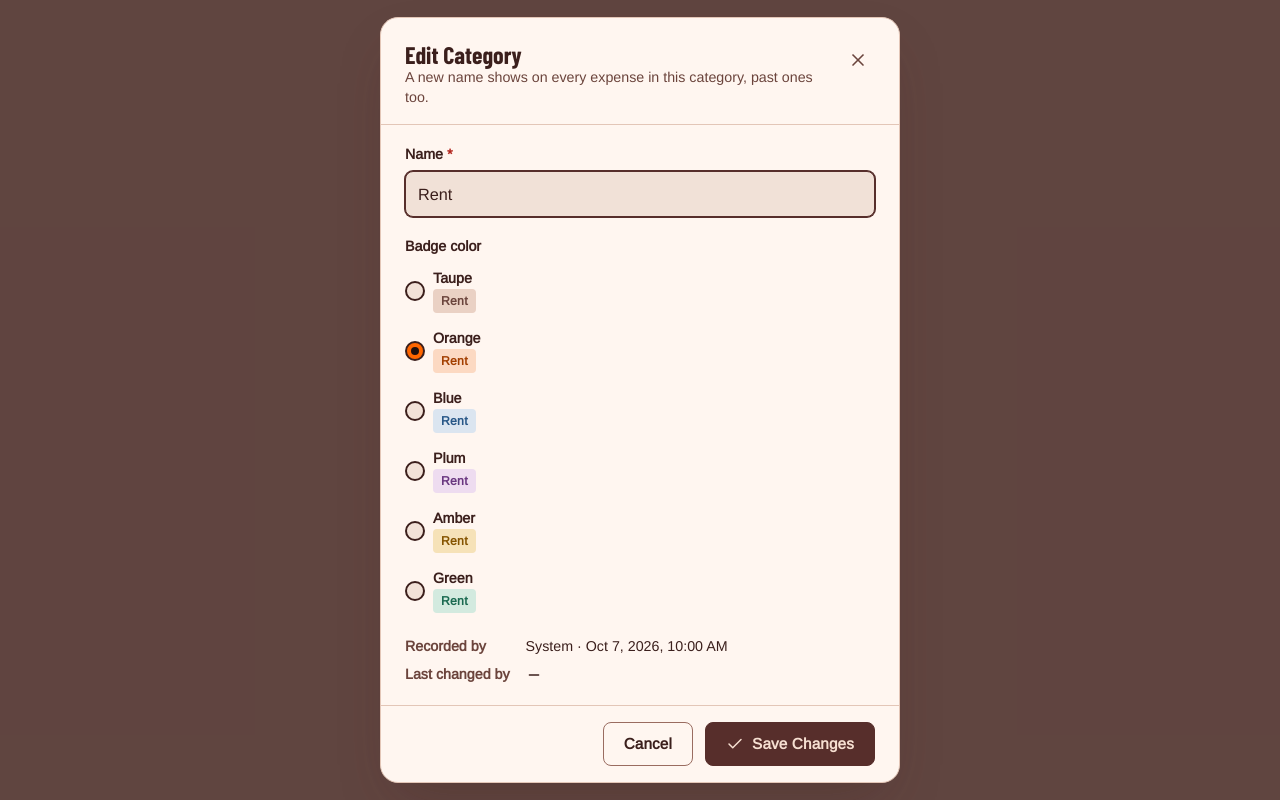
Test: S2 edit mode › a stale save (SEC-07, 05 D-20) › keeps every typed value on a 409, shows the banner and puts focus on Load Latest
Replace the text in the field labelled "Name *" with "Rent and bills" at {"x": 640, "y": 194}, box [406,172,874,216]
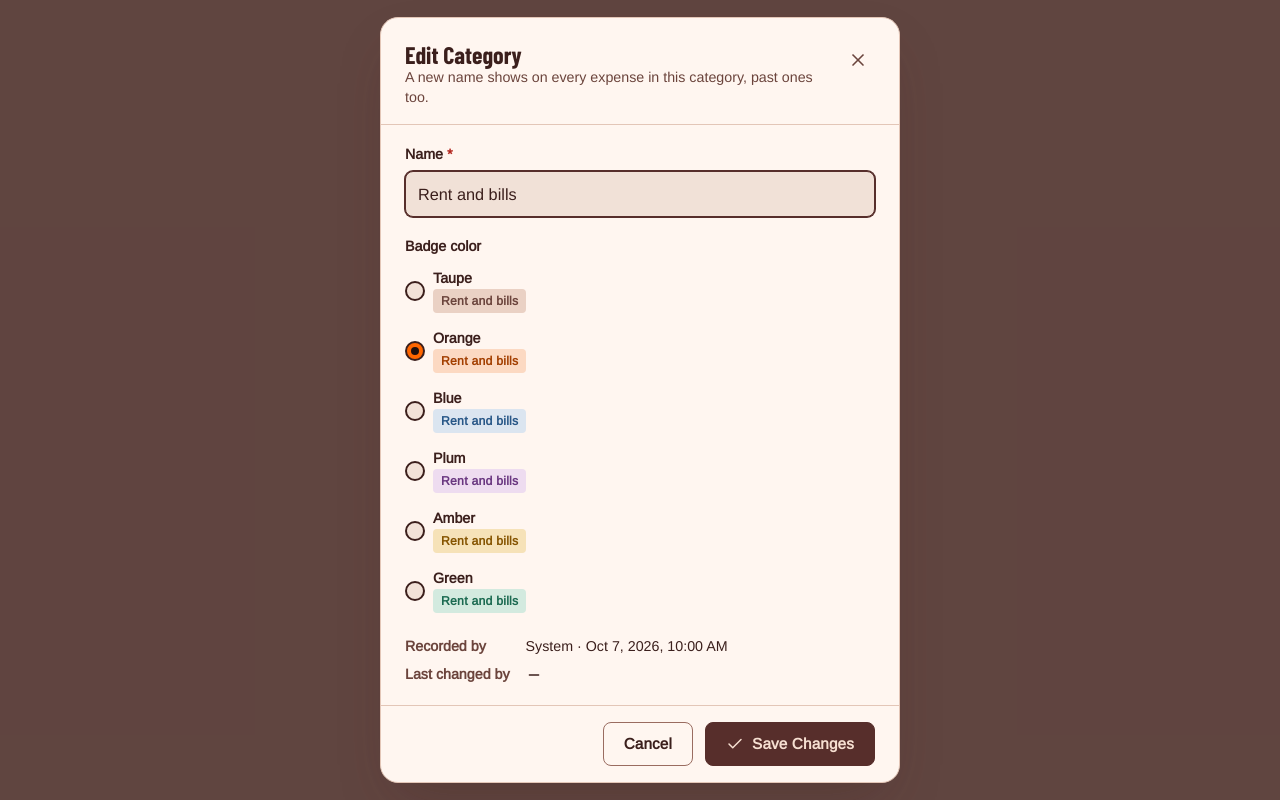
Click the radio button labelled "Plum".
click(415, 471)  # box [405,461,425,481]
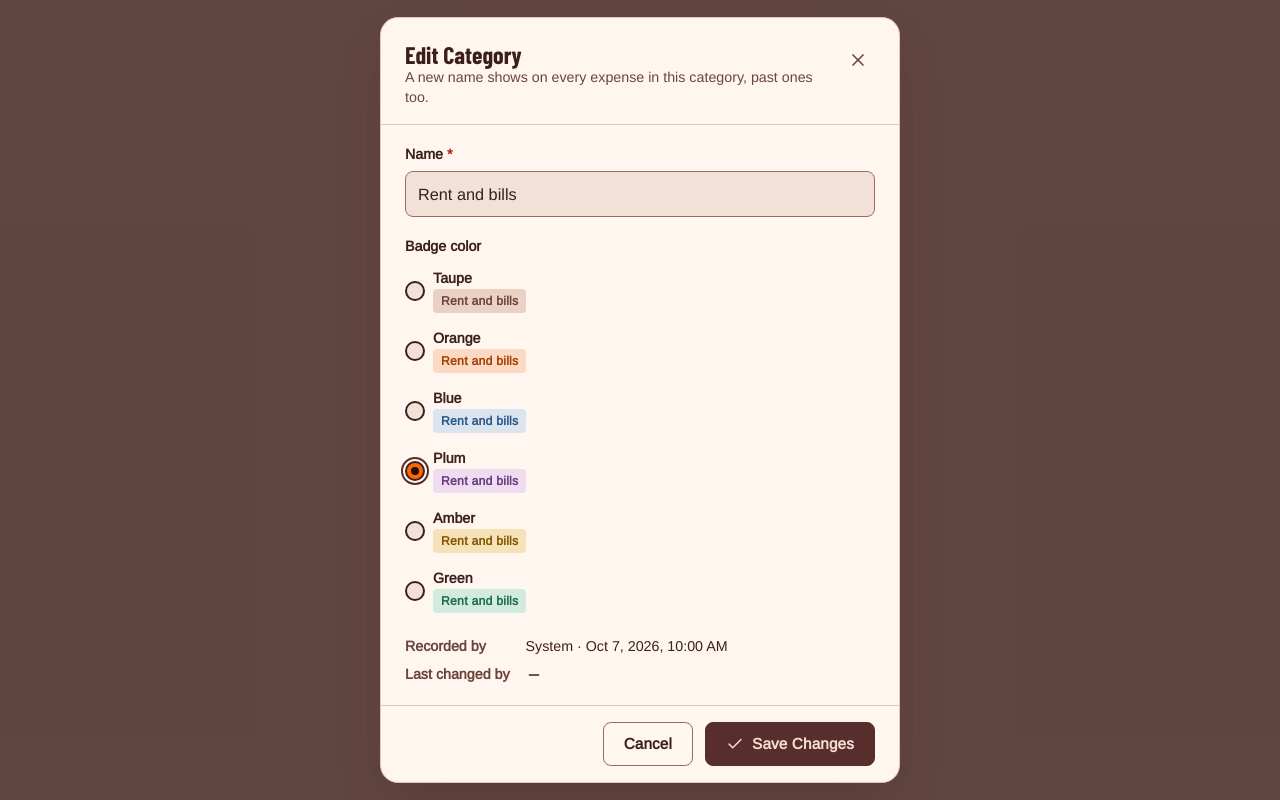
Click the button "Save Changes".
click(790, 744)  # box [705,722,875,766]
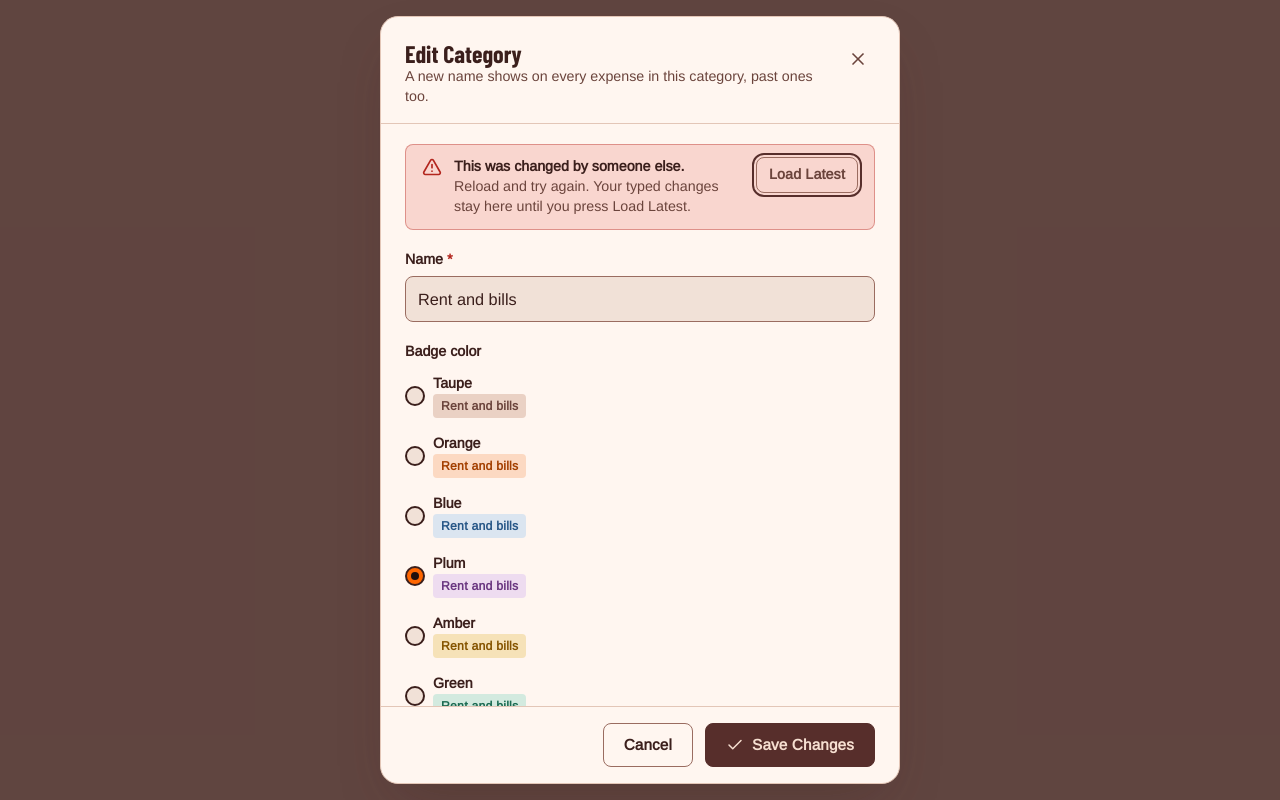
Now the radio button labelled "Plum" is checked, box [405,566,425,586]
Now the text "This was changed by someone else." is shown, box [454,159,684,174]
Now the text "Reload and try again. Your typed changes stay here until you press Load Latest." is shown, box [454,179,719,214]
